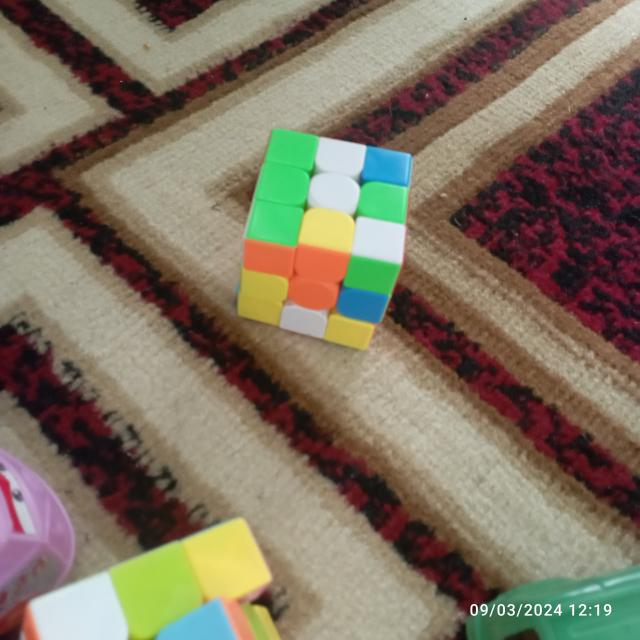Rub: (233, 126, 409, 352), (23, 515, 283, 640)
